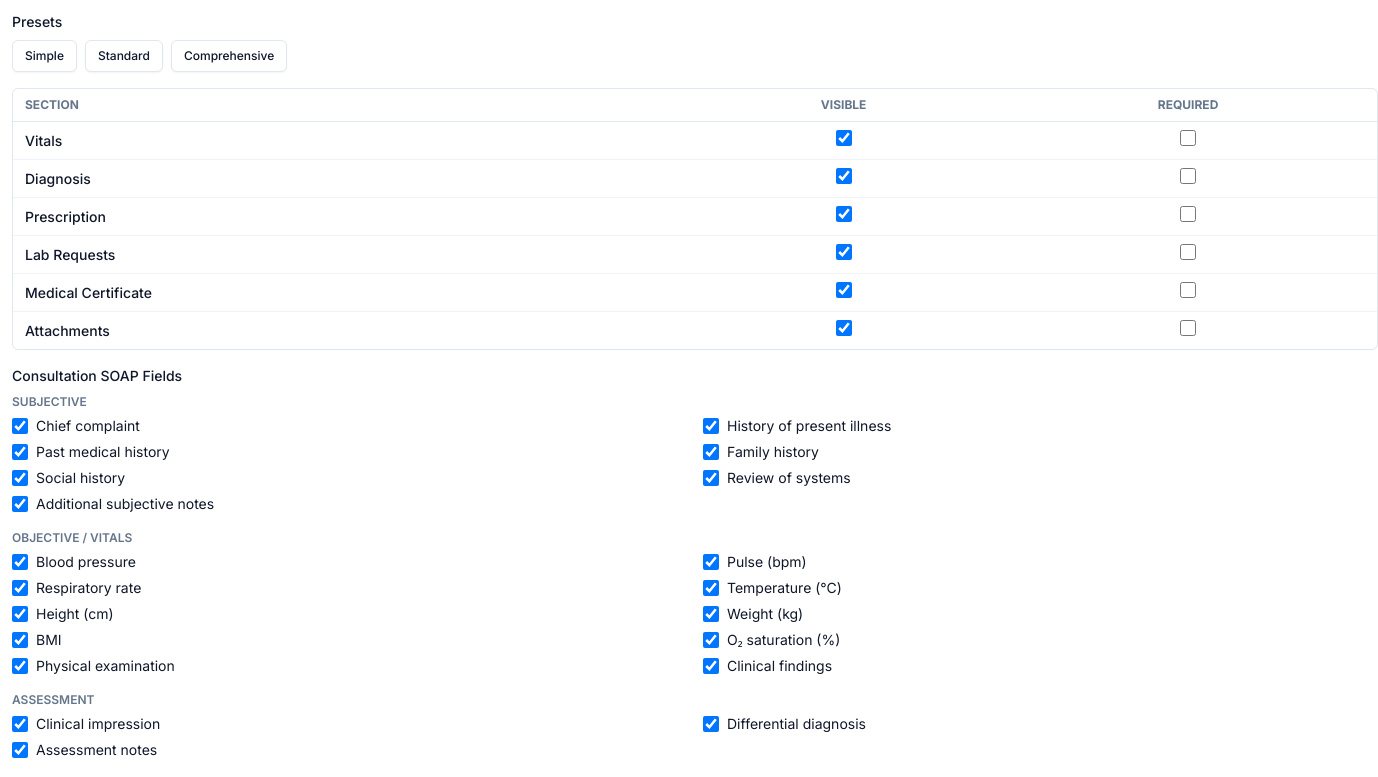
Test: DoctorWorkspaceConfigSettings › applying the Simple preset updates the checkboxes
Click the button "Simple" at point(44, 56), box [12,40,77,72]
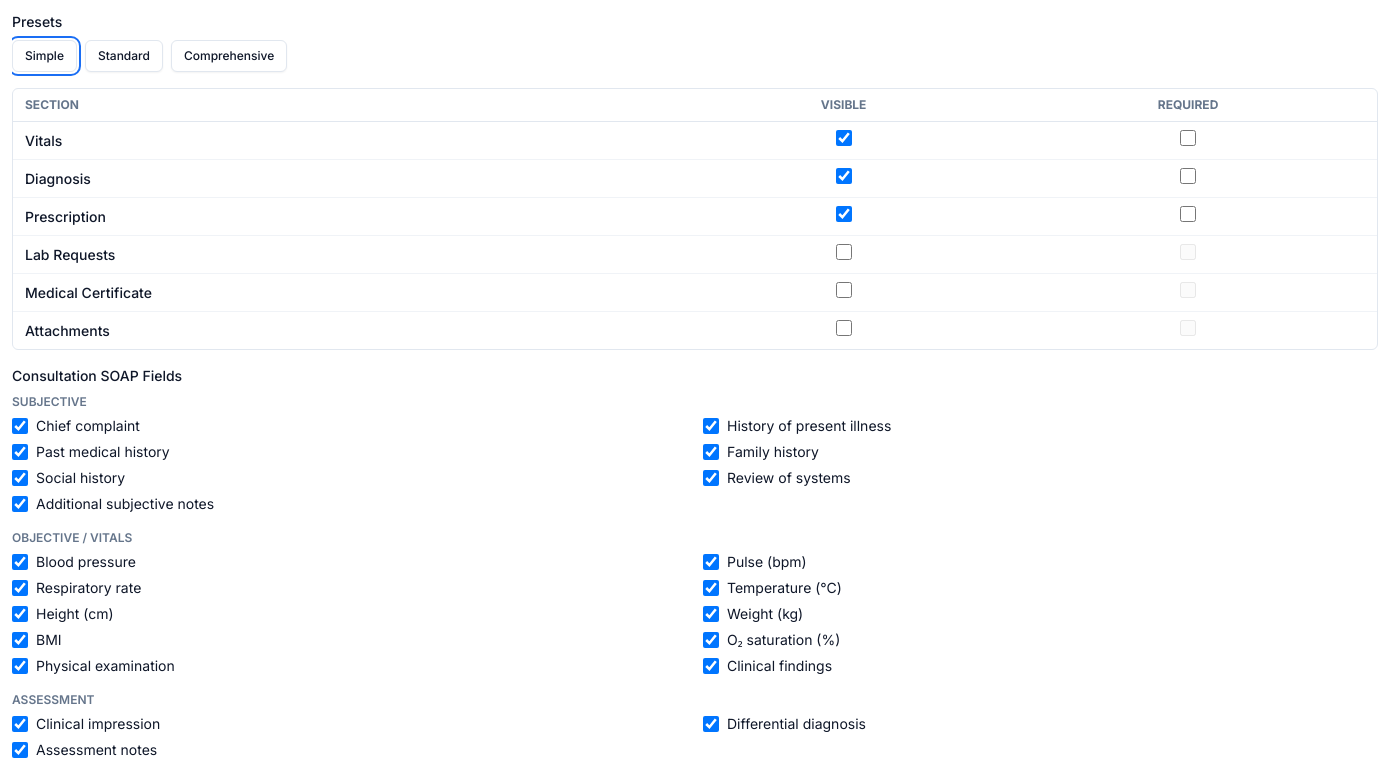
Check: the checkbox named "Vitals visible" is checked, box [836,130,852,146]
Check: the checkbox named "Lab Requests visible" is not checked, box [836,244,852,260]
Check: the checkbox named "Medical Certificate visible" is not checked, box [836,282,852,298]
